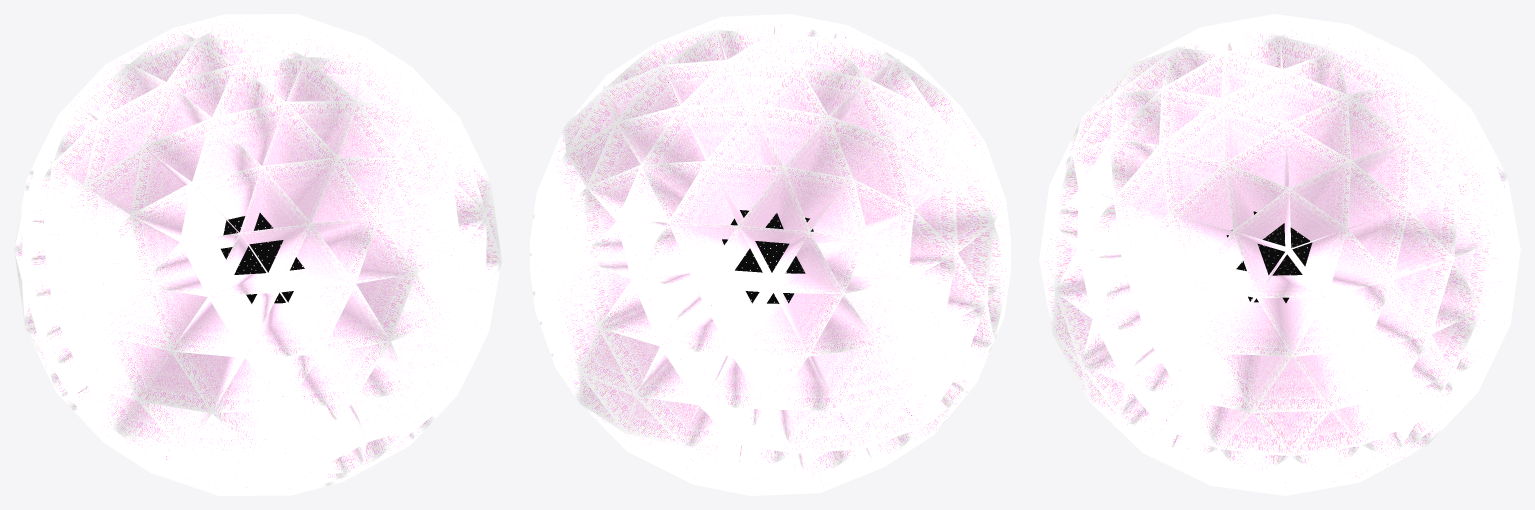
File: ballDark.glb
3 views of the same model, side by side, from view 1: azimuth 30°, elevation 25°; view 2: azimuth 150°, elevation 25°; view 3: azimuth 270°, elevation 25° (orthographic).
Parts seen in each view (by area): view 1: BallDarkEmission, BallDark; view 2: BallDarkEmission, BallDark; view 3: BallDarkEmission, BallDark.
Part boxes in pixels (<box>): BallDarkEmission: <box>14,14,501,495</box>; BallDark: <box>221,213,304,303</box>; BallDarkEmission: <box>530,14,1010,495</box>; BallDark: <box>722,210,813,303</box>; BallDarkEmission: <box>1039,14,1520,495</box>; BallDark: <box>1226,211,1312,302</box>.
Size of what is drawn, in the model's own units: 1.82 by 1.82 by 1.82.
Materials: 2 (2 with a texture image).
